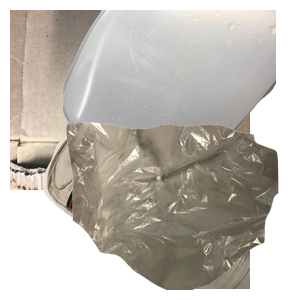cardboard: (10, 10, 250, 190)
glass: (41, 120, 281, 300)
plastic: (60, 10, 300, 190)
trash: (64, 120, 300, 300)
